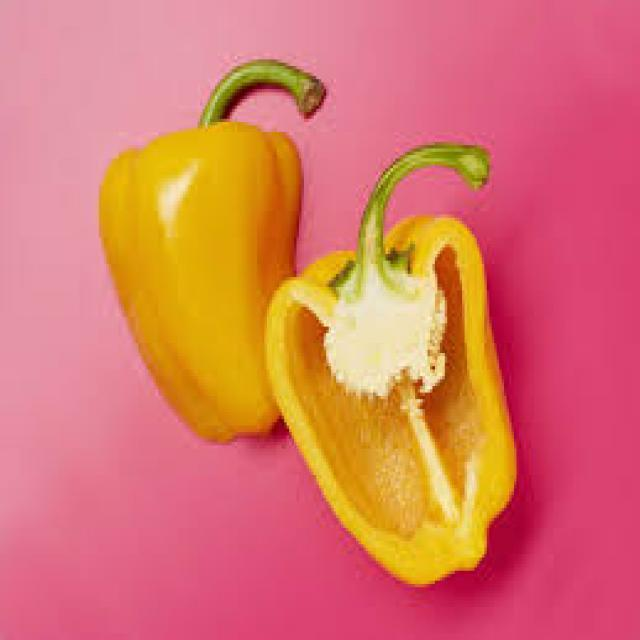Pepper: (262, 144, 519, 590), (97, 122, 304, 447)
